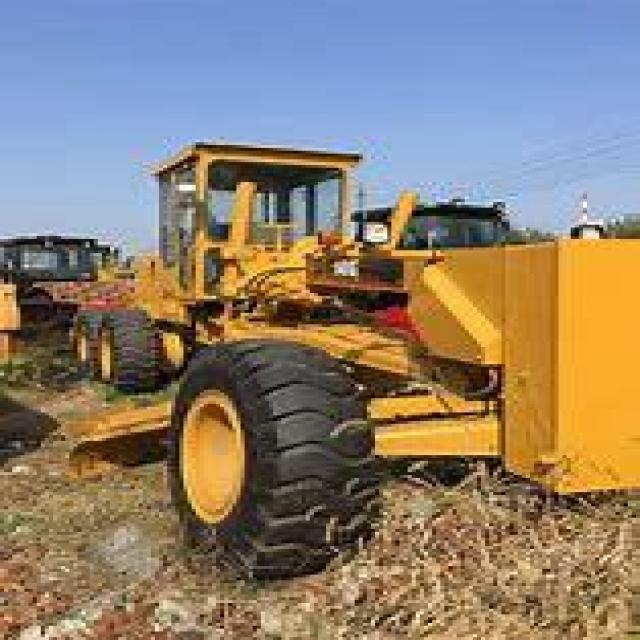Grader: (45, 108, 636, 572)
